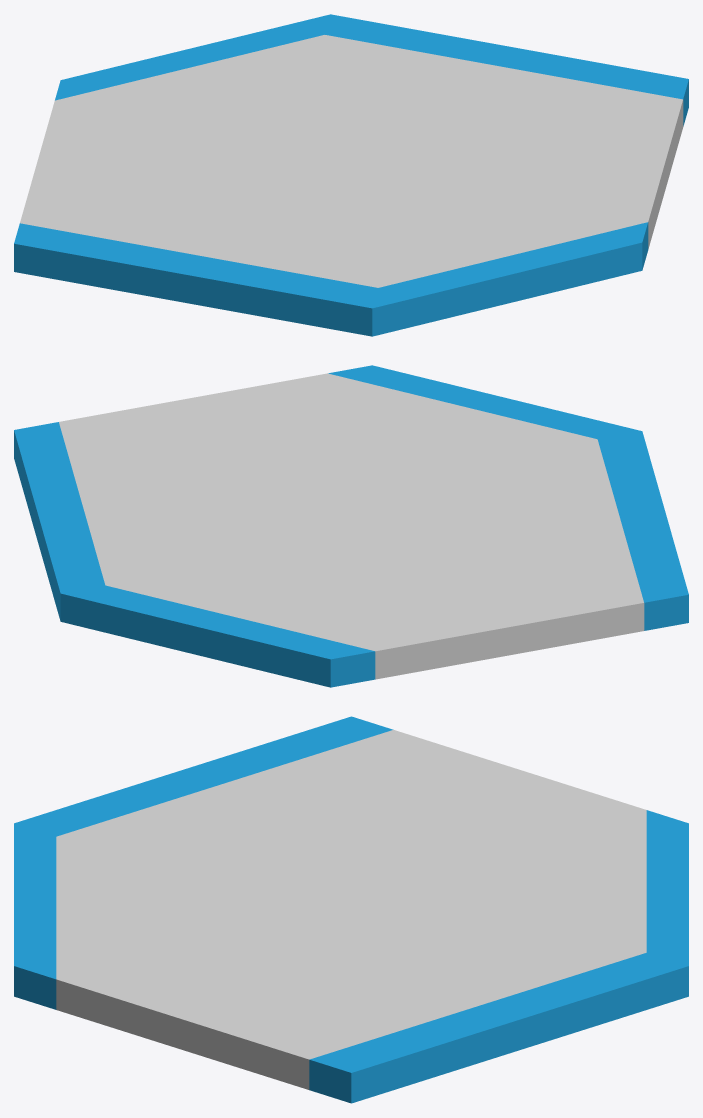
The picture shows the model from 3 angles, top to bottom: view 1: azimuth 30°, elevation 25°; view 2: azimuth 150°, elevation 25°; view 3: azimuth 270°, elevation 25°; orthographic projection. The views are drawn at different scales.
Parts seen in each view (by area): view 1: Hexagon, SW, S, NE.001, N.001; view 2: Hexagon, N.001, NE.001, SW, S; view 3: Hexagon, NE.001, SW, S, N.001.
Boxes of the visible parts, x1,y1,x2,y2 form: Hexagon: (20,35,683,287); SW: (14,223,377,336); S: (372,222,648,336); NE.001: (325,14,688,126); N.001: (55,14,330,100); Hexagon: (59,373,644,679); N.001: (60,585,375,687); NE.001: (14,422,104,620); SW: (597,431,688,630); S: (328,365,641,439); Hexagon: (56,730,646,1089); NE.001: (309,952,688,1103); SW: (14,716,393,836); S: (14,823,56,1009); N.001: (646,810,688,965).
Size of the model in its own units: 5 by 4 by 0.2.
